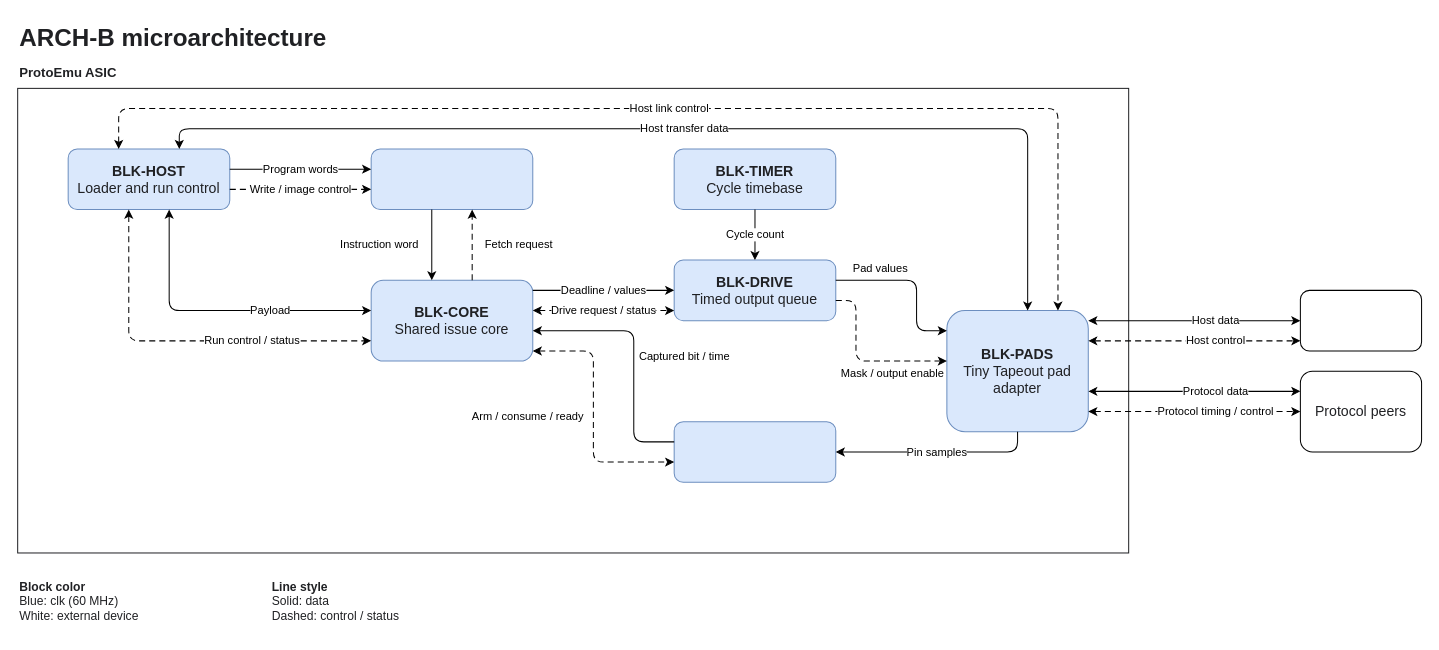
Some shapes in this 1439 by 650 pixel diagram are drawn without their labels. The centre of each missing label's shape, as x and y in pixels:
BLK-CAPTURE Context-owned input capture: the point at 754,451
BLK-PROGRAM Shared program store: the point at 451,179
RP2350 host: the point at 1360,320
